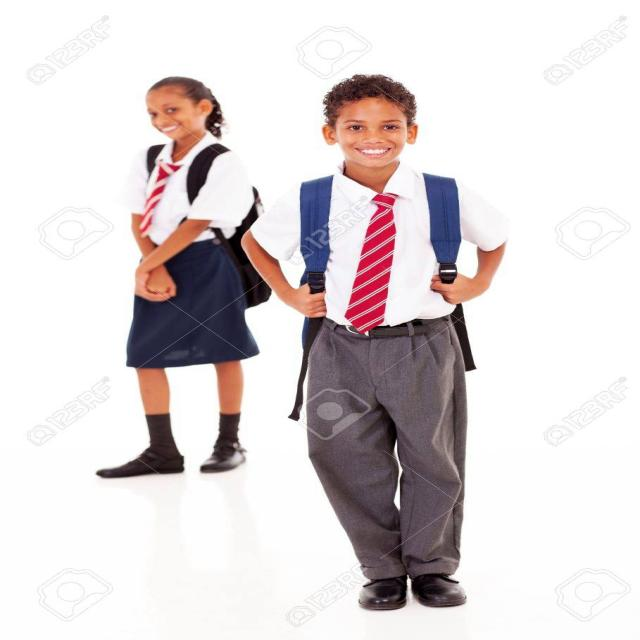child: (248, 66, 526, 622), (84, 72, 276, 488)
